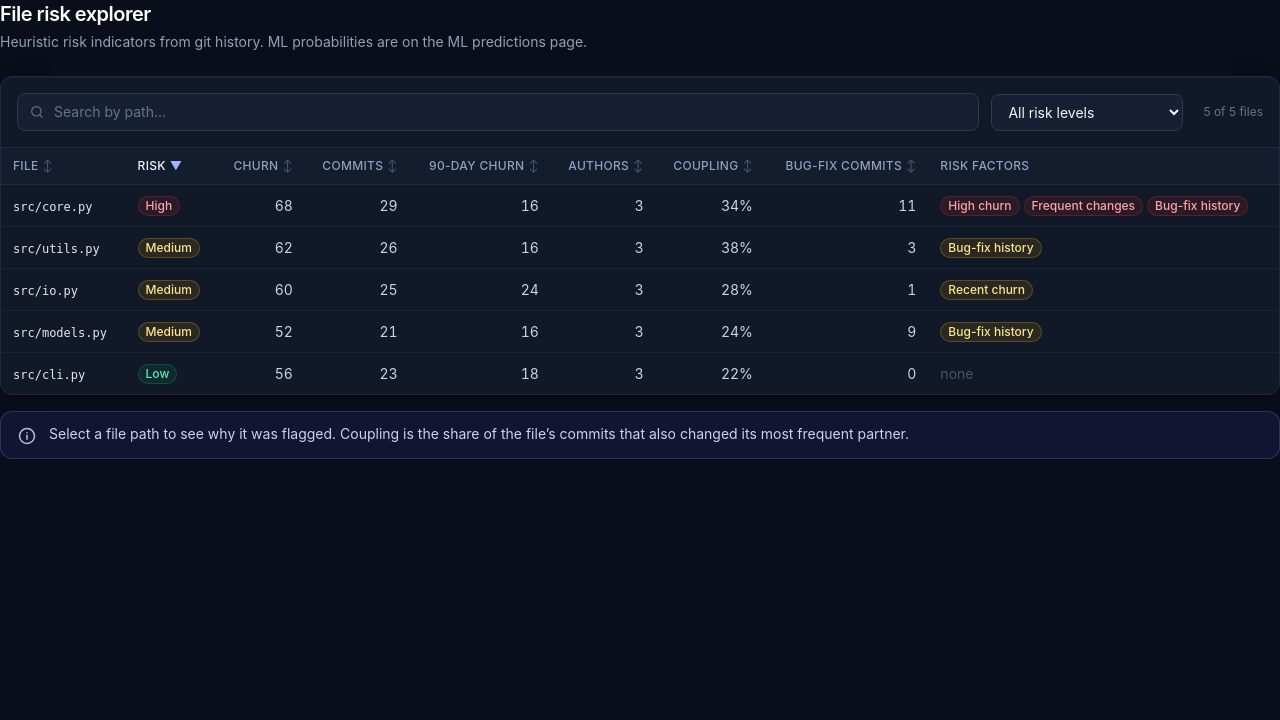
Scenario: FileExplorer › explains a file's risk when expanded
The image size is (1280, 720).
Click the button "src/core.py" at [53, 206], box [13, 198, 92, 214]
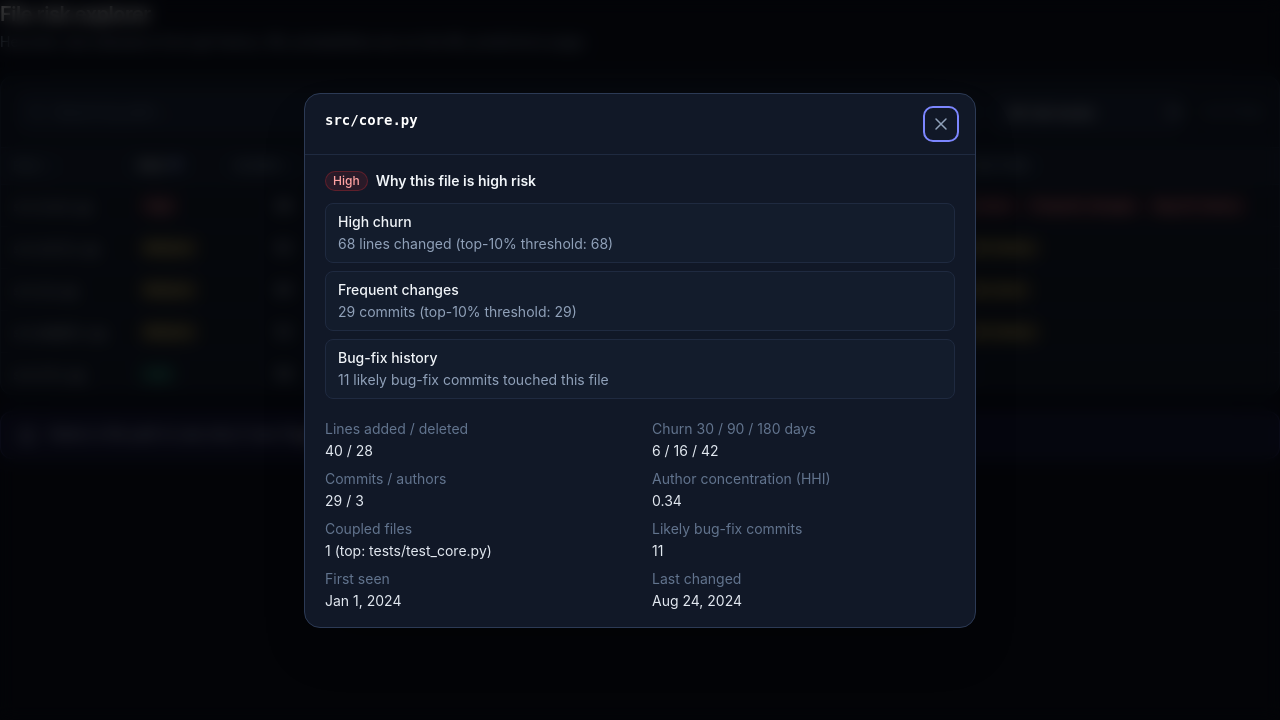
Expected: the text "68 lines changed (top-10% threshold: 68)" is shown, [338, 234, 613, 252]
Press Escape
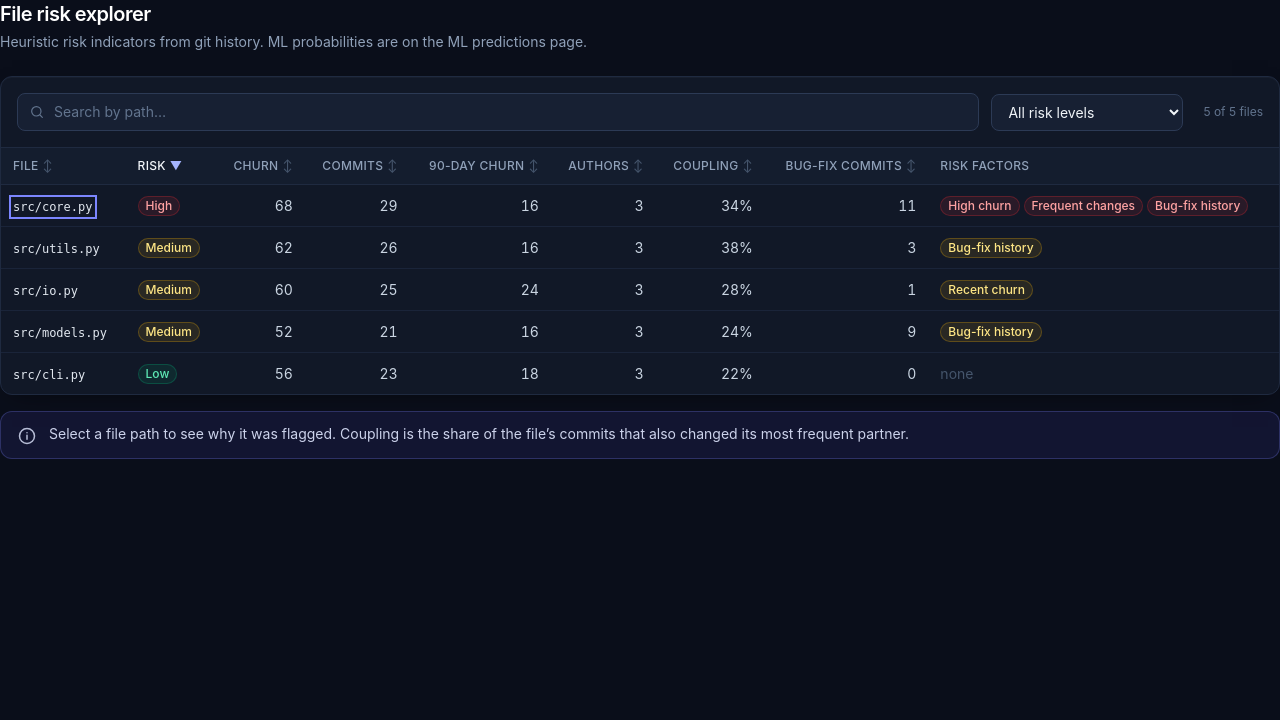
Expected: the dialog is gone
